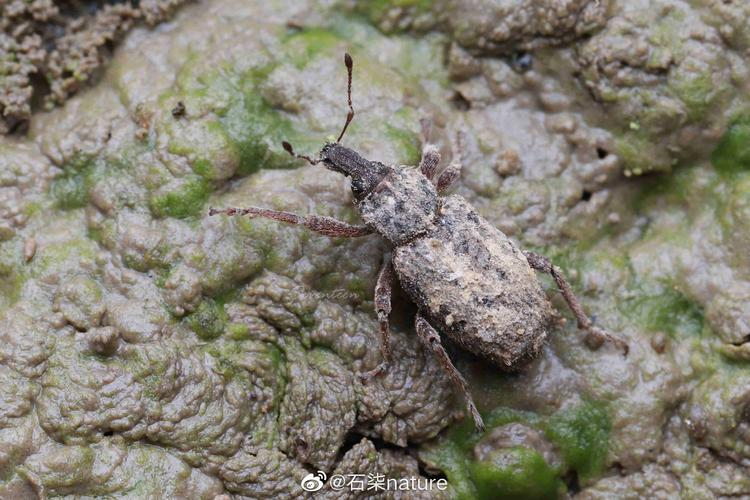Curculionidae: (209, 51, 630, 437)
